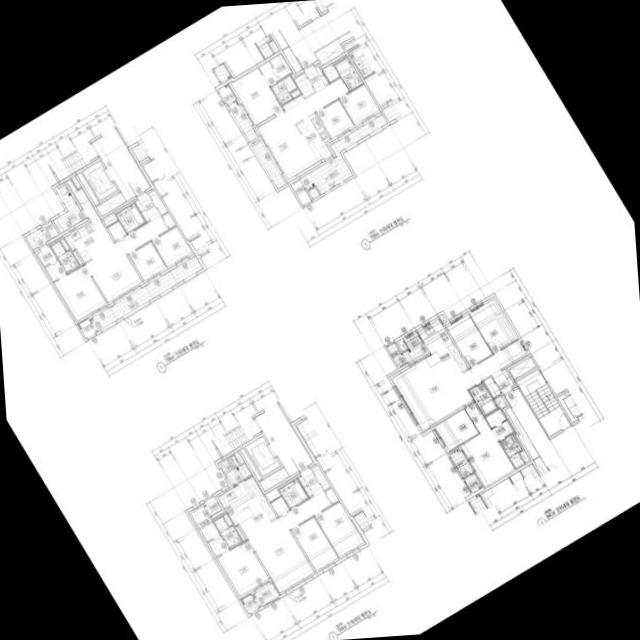background: (0, 0, 640, 640)
space_balconi: (90, 255, 203, 331), (300, 114, 387, 194), (228, 100, 286, 188), (53, 182, 85, 233), (220, 455, 251, 485), (402, 332, 429, 364), (449, 448, 473, 477), (252, 582, 279, 607)
space_bedroom: (461, 402, 515, 487), (231, 67, 283, 125), (217, 540, 269, 596), (54, 264, 106, 320), (315, 501, 364, 557), (469, 298, 517, 353), (292, 517, 338, 570), (446, 314, 492, 366), (152, 226, 192, 266), (340, 84, 379, 124), (317, 99, 354, 138), (129, 241, 166, 280)
space_dressroom: (190, 506, 229, 556), (37, 244, 66, 281), (259, 53, 291, 85), (485, 408, 514, 440)
space_elevator: (245, 435, 281, 476), (82, 160, 118, 200)
space_elevator_hall: (254, 403, 313, 476), (92, 128, 150, 201)
space_front: (297, 466, 323, 497), (134, 191, 160, 221), (304, 64, 329, 91), (491, 368, 515, 394)
space_kitchen: (64, 179, 114, 261), (217, 476, 276, 535), (417, 319, 468, 381), (294, 112, 331, 162)
space_living_room: (392, 339, 527, 430), (257, 77, 349, 179), (246, 490, 332, 592), (84, 214, 169, 302)
space_multipurpose_space: (435, 408, 478, 450)
space_other: (505, 406, 540, 460), (25, 221, 59, 250), (96, 191, 126, 216), (240, 447, 262, 480), (77, 172, 99, 205), (259, 467, 289, 491), (509, 356, 536, 379), (290, 179, 311, 205), (294, 73, 315, 97), (311, 465, 330, 490), (387, 342, 406, 367), (149, 189, 167, 214), (270, 496, 289, 516), (483, 376, 501, 397), (107, 221, 126, 240), (204, 496, 222, 516), (323, 64, 340, 82), (162, 212, 175, 228), (325, 488, 338, 503), (103, 213, 118, 226), (73, 250, 83, 265), (494, 395, 506, 407), (308, 187, 320, 199), (235, 526, 245, 540), (519, 450, 529, 463), (234, 452, 244, 464), (398, 340, 408, 351), (223, 513, 232, 525), (60, 238, 69, 250), (72, 177, 81, 188), (291, 88, 301, 97), (439, 315, 446, 323)
space_outdoor_room: (218, 83, 237, 104), (464, 473, 482, 493), (241, 594, 259, 613)
space_staircase: (517, 368, 570, 436)
space_toilet: (334, 56, 363, 91), (469, 382, 498, 416), (50, 240, 79, 273), (213, 516, 242, 548), (279, 478, 308, 508), (116, 203, 145, 233), (500, 434, 525, 468), (270, 75, 297, 104)
